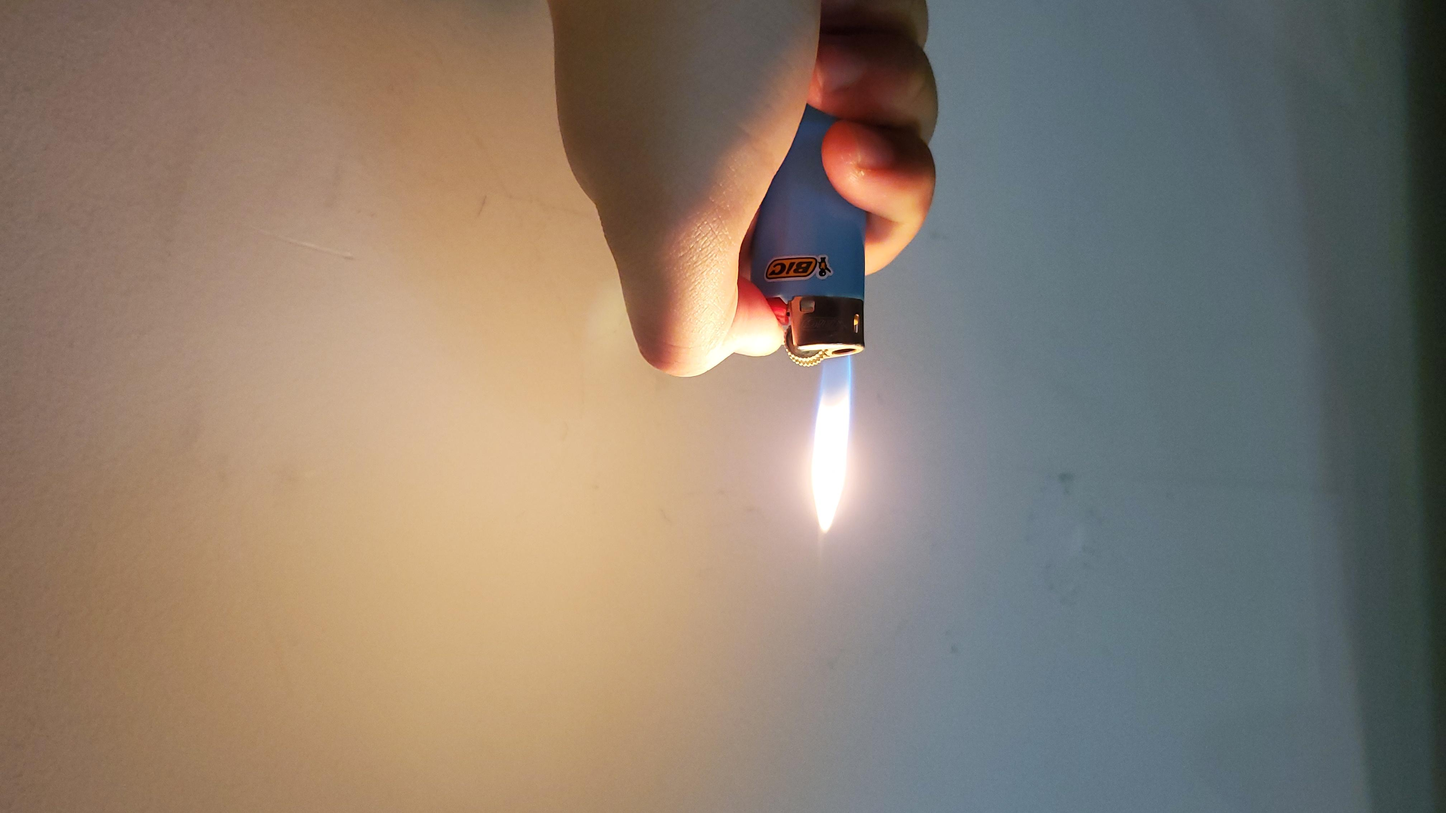fire: (585, 276, 655, 463)
